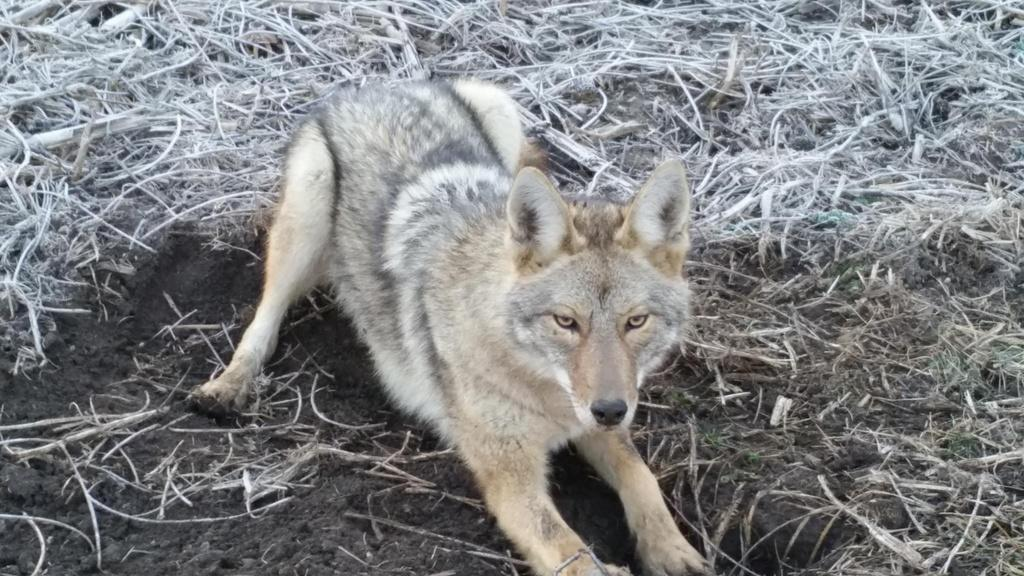Coyote: (183, 73, 716, 576)
